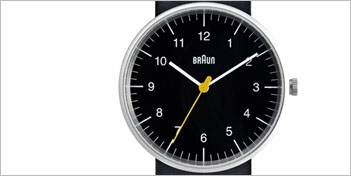clock: (120, 2, 288, 173)
